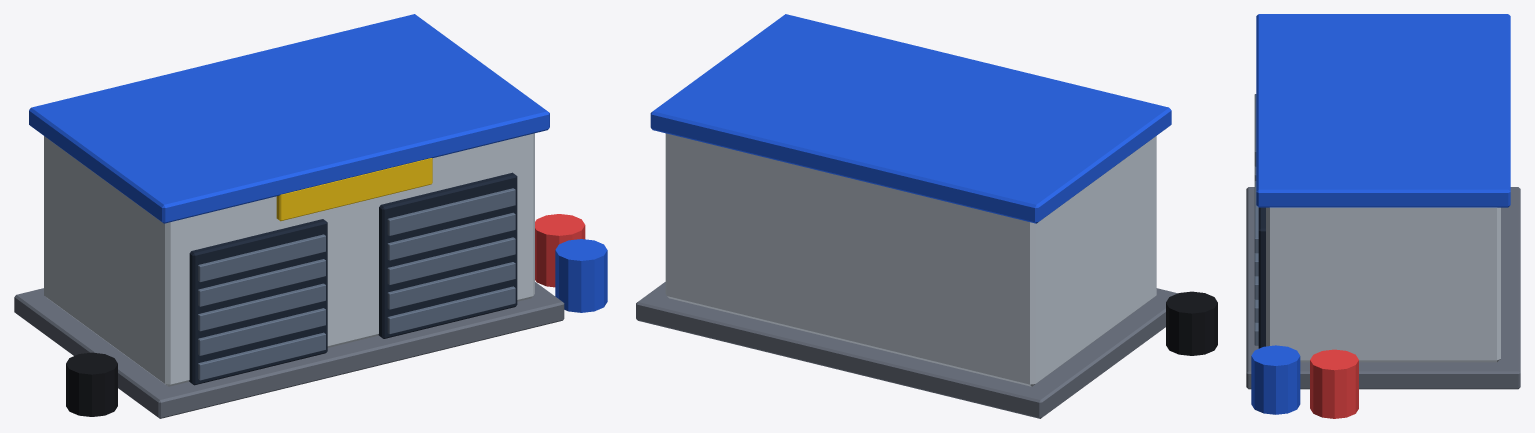
The model's file is depot.glb.
3 views of the same model, side by side, from view 1: azimuth 30°, elevation 25°; view 2: azimuth 150°, elevation 25°; view 3: azimuth 270°, elevation 25° (orthographic). The views are drawn at different scales.
Visible parts, largest first — view 1: g_m_2563eb, g_m_cbd5e1, g_m_64748b, g_m_6b7280, g_m_1e293b, g_m_facc15, g_m_16181d, g_m_ef4444; view 2: g_m_cbd5e1, g_m_2563eb, g_m_6b7280, g_m_16181d; view 3: g_m_2563eb, g_m_cbd5e1, g_m_6b7280, g_m_ef4444, g_m_1e293b, g_m_64748b.
Boxes of the visible parts, bbox=[...] form: g_m_2563eb: bbox=[29, 14, 607, 312]; g_m_cbd5e1: bbox=[44, 133, 534, 386]; g_m_64748b: bbox=[198, 188, 515, 380]; g_m_6b7280: bbox=[14, 282, 564, 418]; g_m_1e293b: bbox=[189, 172, 517, 385]; g_m_facc15: bbox=[276, 158, 432, 221]; g_m_16181d: bbox=[66, 352, 117, 416]; g_m_ef4444: bbox=[535, 214, 585, 287]; g_m_cbd5e1: bbox=[665, 133, 1156, 386]; g_m_2563eb: bbox=[650, 14, 1171, 223]; g_m_6b7280: bbox=[636, 282, 1177, 418]; g_m_16181d: bbox=[1166, 291, 1217, 355]; g_m_2563eb: bbox=[1251, 14, 1510, 414]; g_m_cbd5e1: bbox=[1266, 207, 1500, 362]; g_m_6b7280: bbox=[1246, 187, 1520, 389]; g_m_ef4444: bbox=[1310, 349, 1358, 418]; g_m_1e293b: bbox=[1258, 207, 1265, 348]; g_m_64748b: bbox=[1254, 94, 1258, 345].
Bounding box in the file's own units: 11.7 × 4.4 × 5.6.
